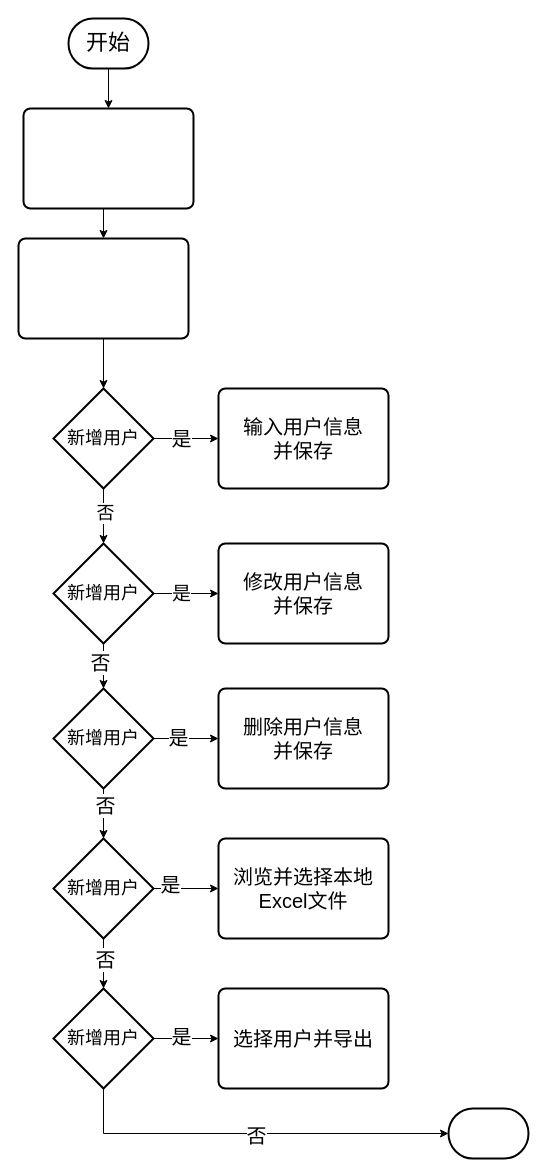
Image size: 546x1176. Some labels were removed from this diagram. The shapes that lost their labels are listed below. From the top down, each one's box as (x1, y1, x2, y2) in pixels, then its label:
(22, 107, 194, 209): 进入到系统的用 户 管理界面
(17, 237, 189, 339): 查看用户列表
(447, 1107, 529, 1159): 结束
